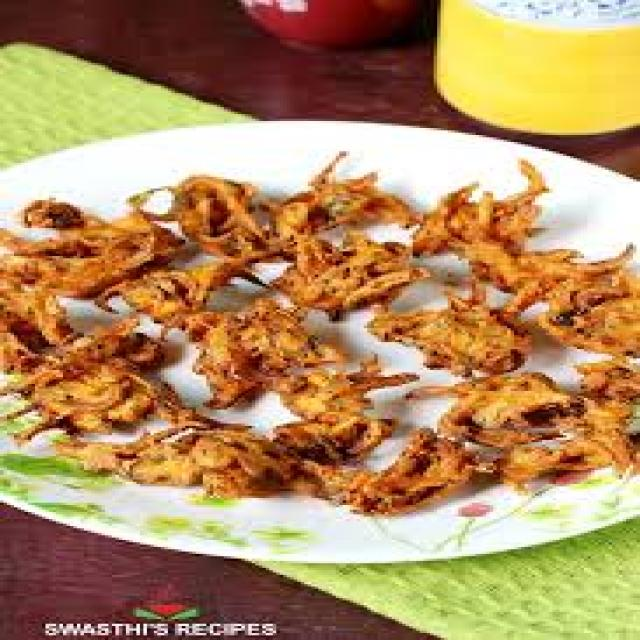BAJI: (0, 169, 637, 524)
